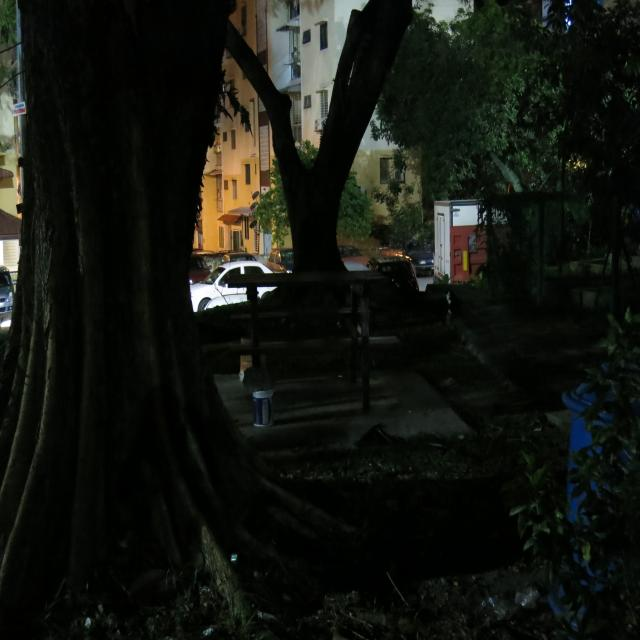car: (177, 249, 288, 337)
chair: (241, 255, 398, 375)
